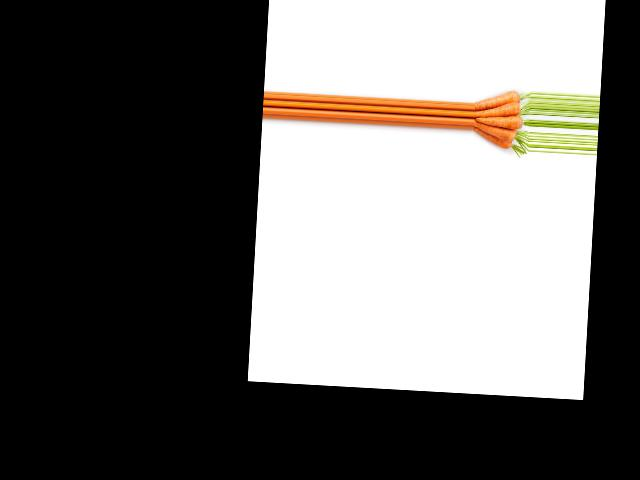carrot: (472, 127, 513, 154)
